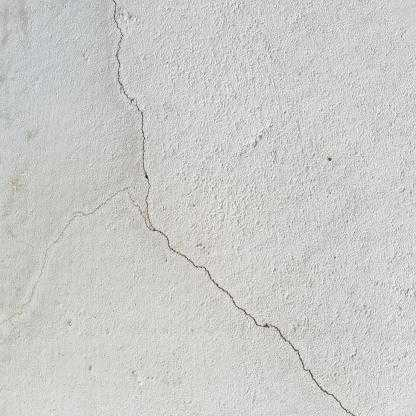crack: (15, 188, 354, 415), (136, 100, 155, 230), (113, 0, 134, 105)
